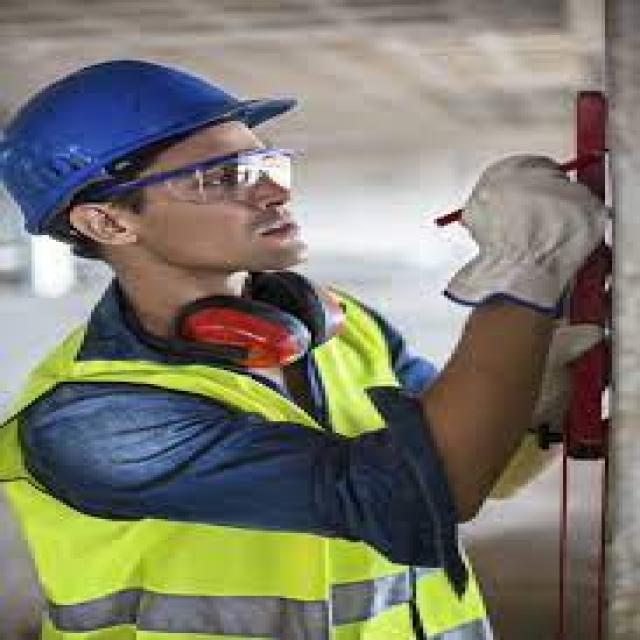glasses: (144, 138, 300, 192)
